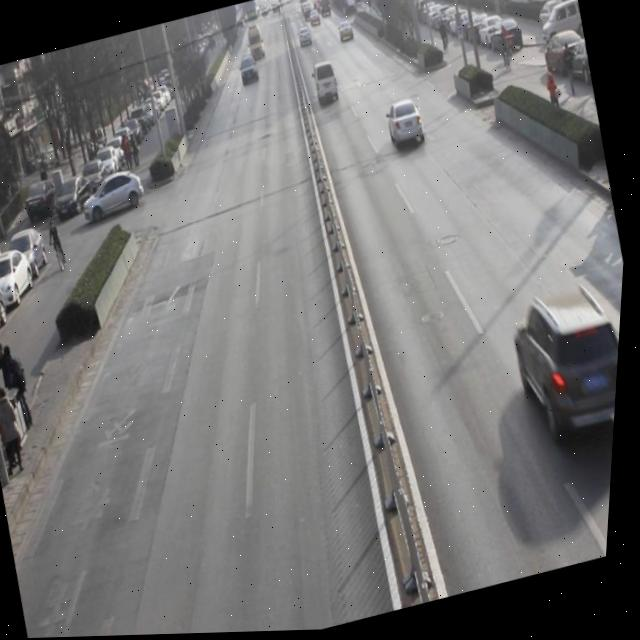car: (502, 278, 626, 468), (382, 97, 434, 160), (236, 53, 265, 91), (336, 18, 359, 49)
truck: (309, 56, 346, 112), (243, 23, 267, 60)
